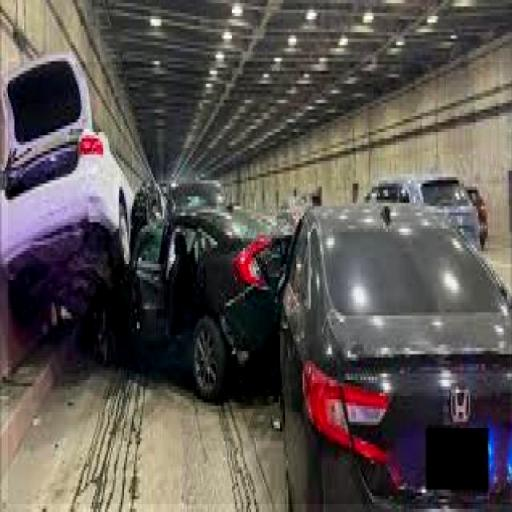小汽车撞小汽车: (8, 62, 510, 504)
